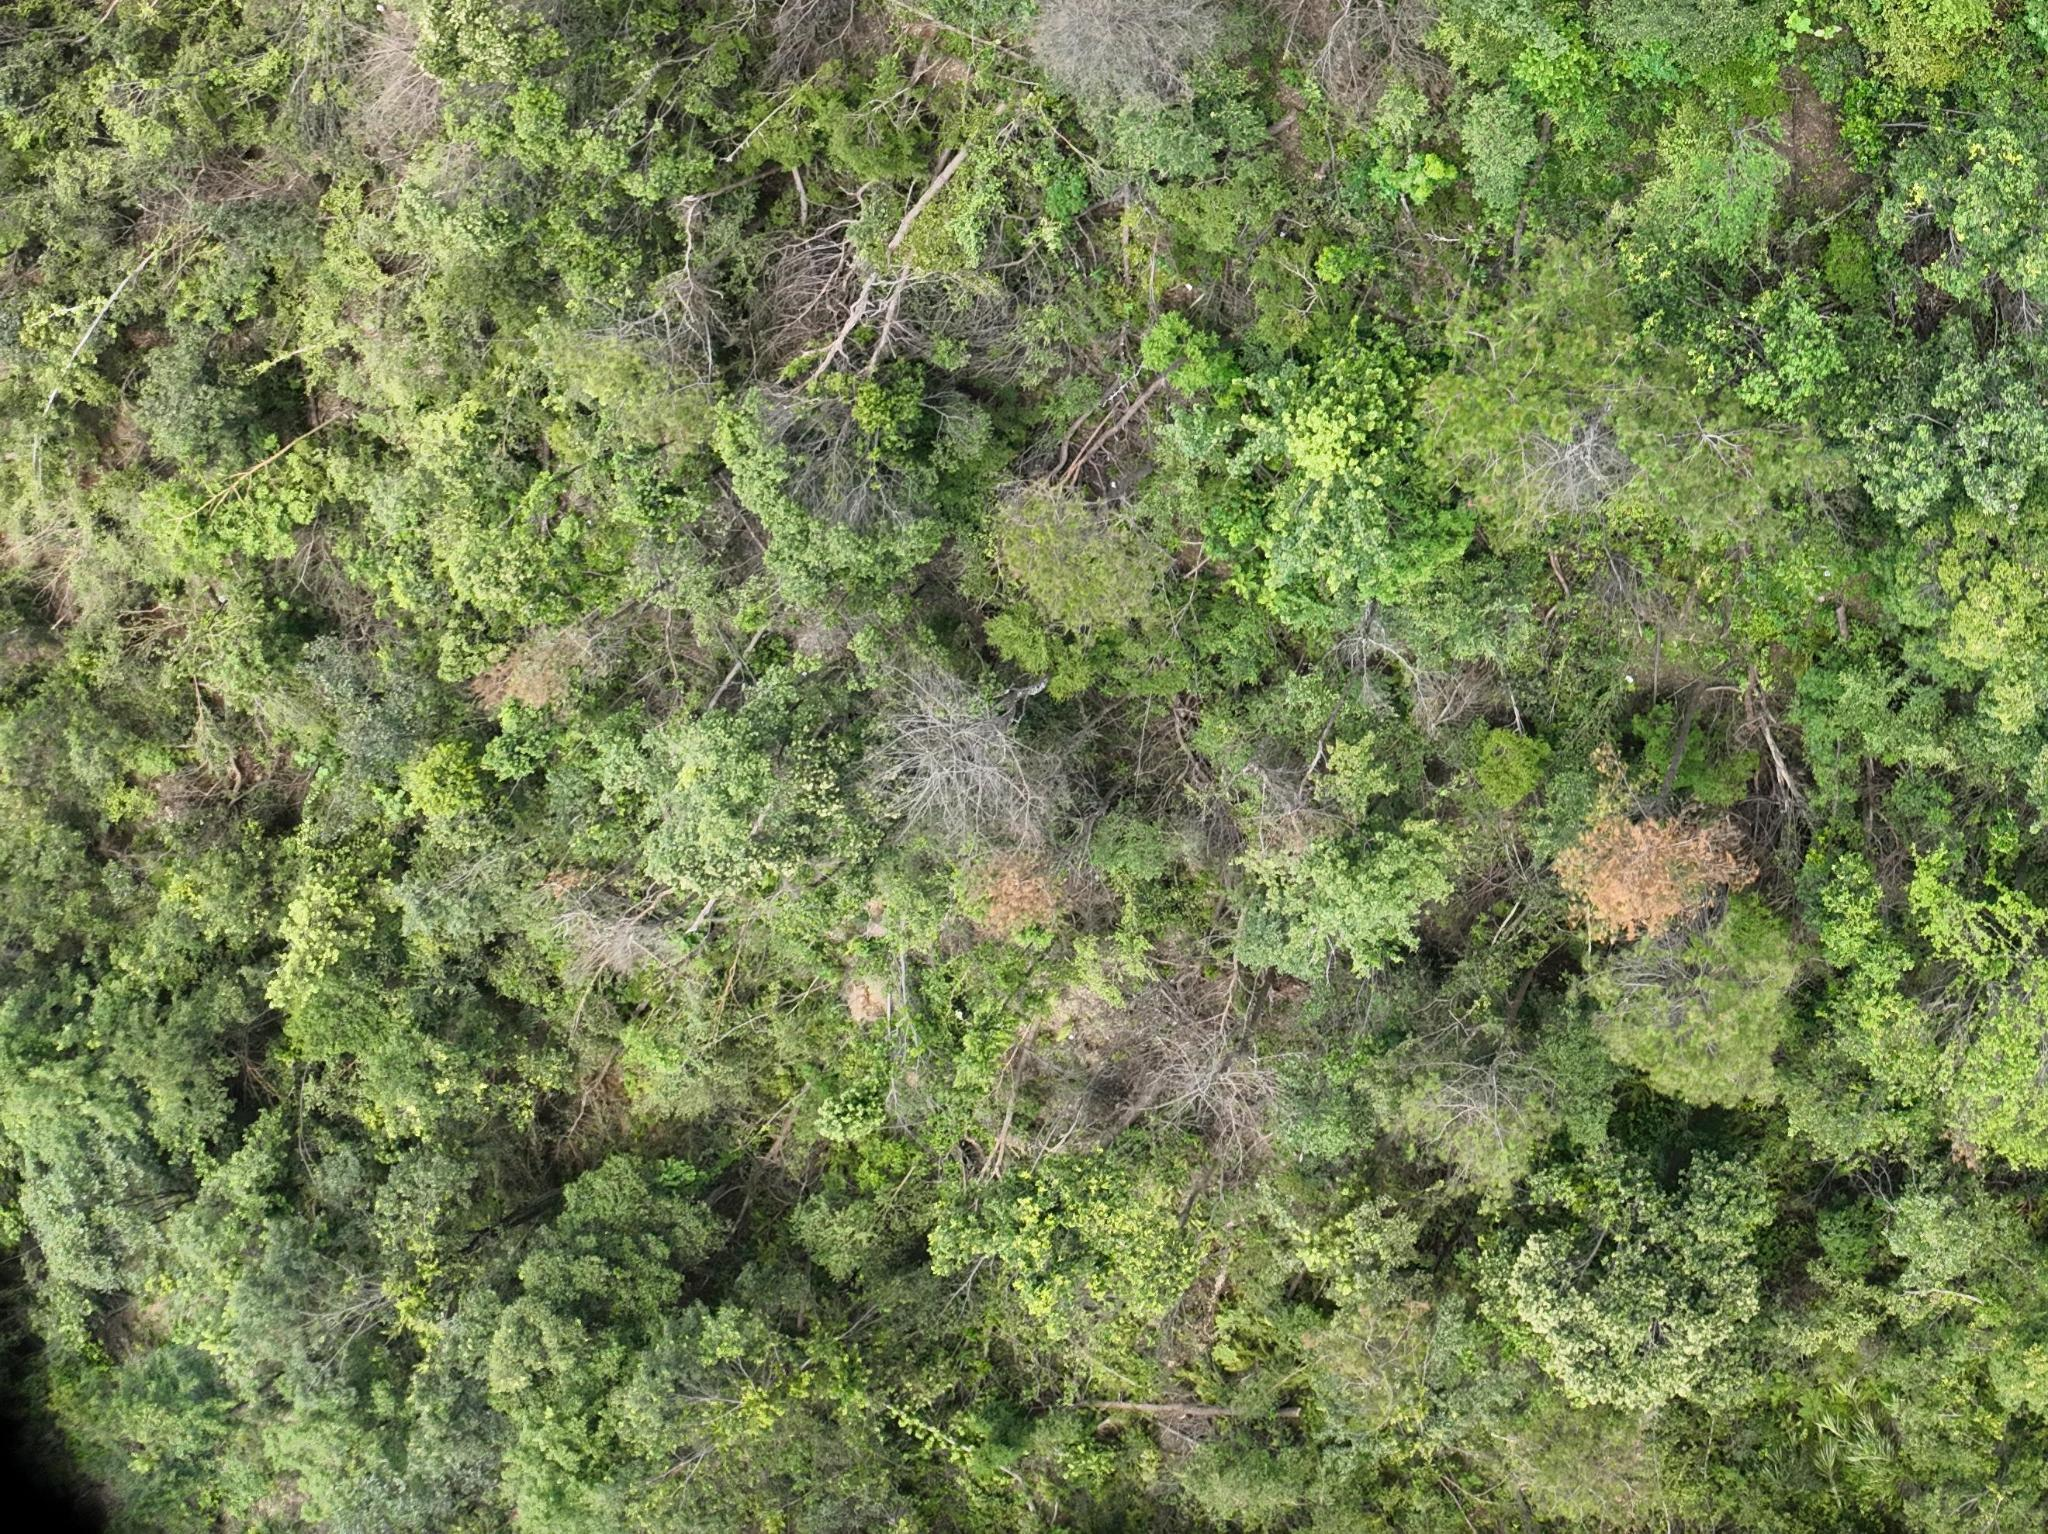dead: (865, 665, 1051, 846), (1096, 997, 1268, 1163), (1028, 0, 1212, 108), (327, 27, 437, 148)
heavy: (1555, 785, 1756, 938)
